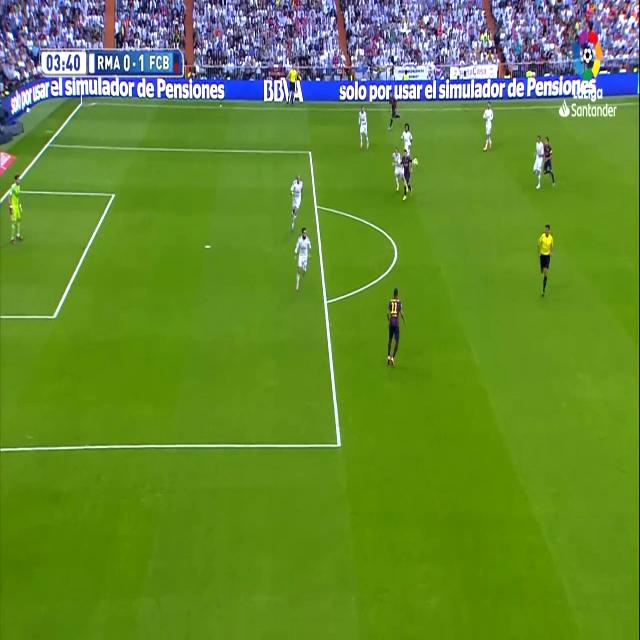bigarea_bottom_inner: (48, 301, 59, 328)
bigarea_top_inner: (110, 186, 116, 202)
bigarea_top_outter: (45, 137, 51, 149)
corner: (77, 97, 87, 108)
